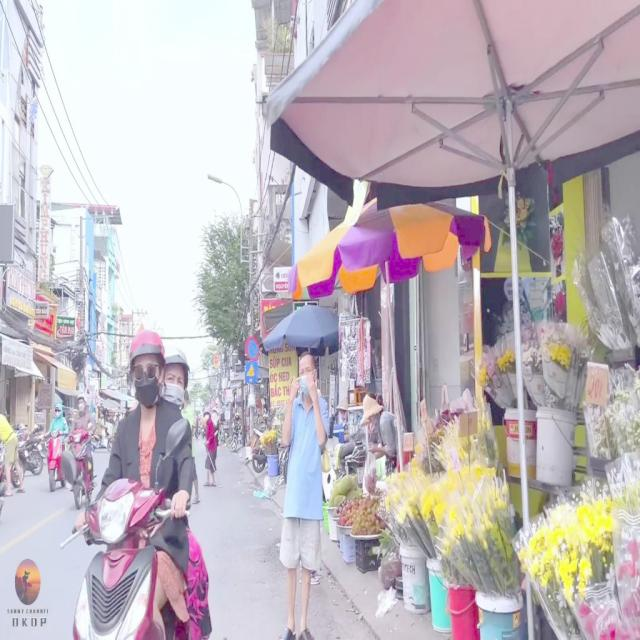cam_do_xe: (245, 337, 259, 361)
cam_o_to_tai: (95, 389, 98, 404)
cho: (245, 362, 258, 384)
